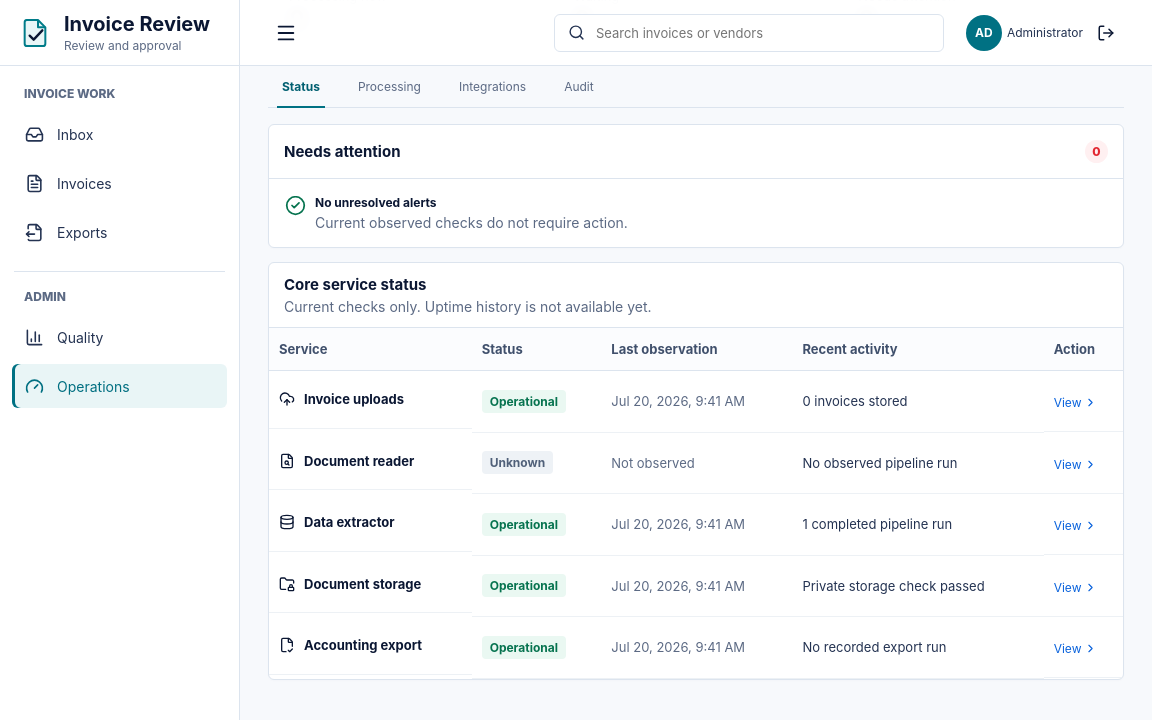
Test: system workspace › keeps operational evidence honest and navigates tabs without a page reload
(page scrolled)
Expected: the text "Current checks only. Uptime history is not available yet." is shown, [284,298,652,315]
Expected: the text "Not enough history" is not shown
Click the button "View" in the row of "Document reader".
click(1076, 464)  # box [1054,456,1098,472]
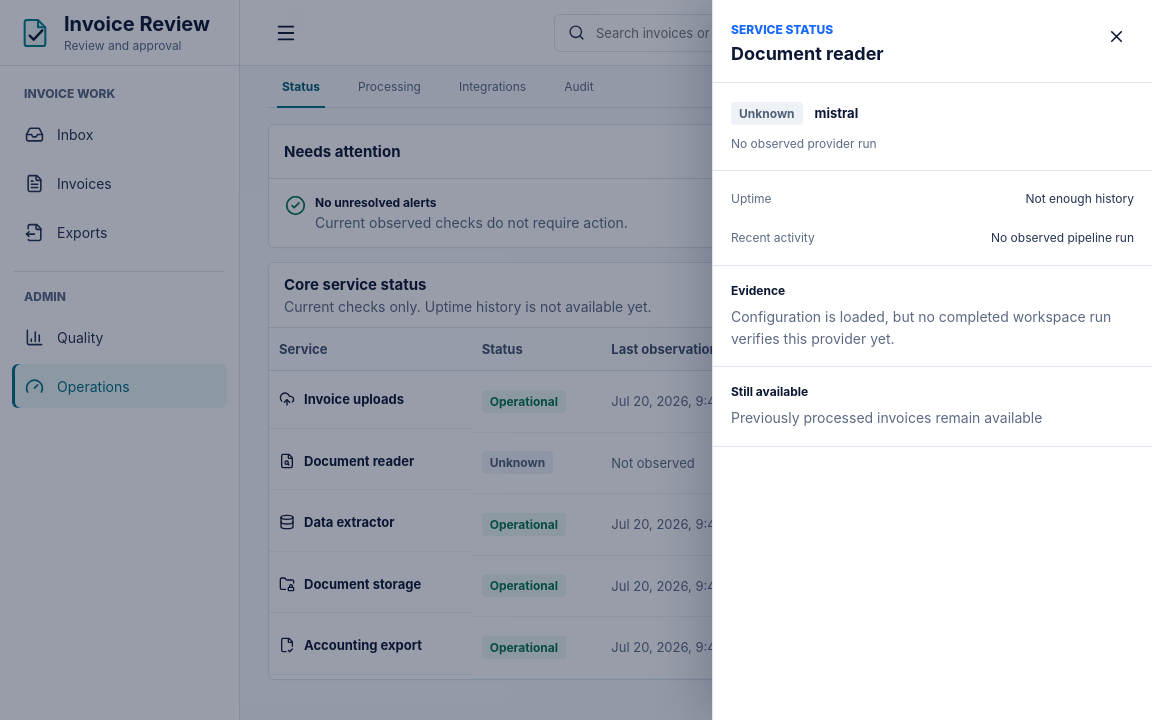
Now the dialog "Document reader" shows "No observed provider run", box [731,136,877,151]
Click the button named "Close details".
click(1116, 36)  # box [1098,18,1134,54]
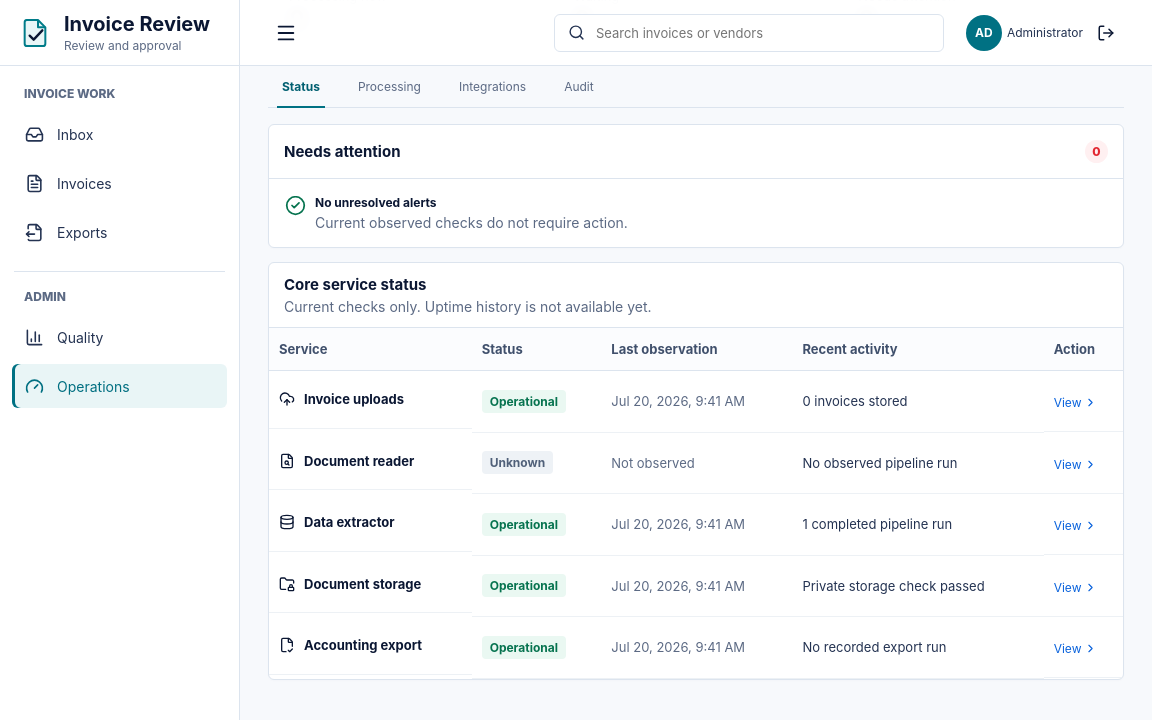
Click the tab "Processing".
click(389, 86)  # box [353,65,426,107]
(page scrolled)
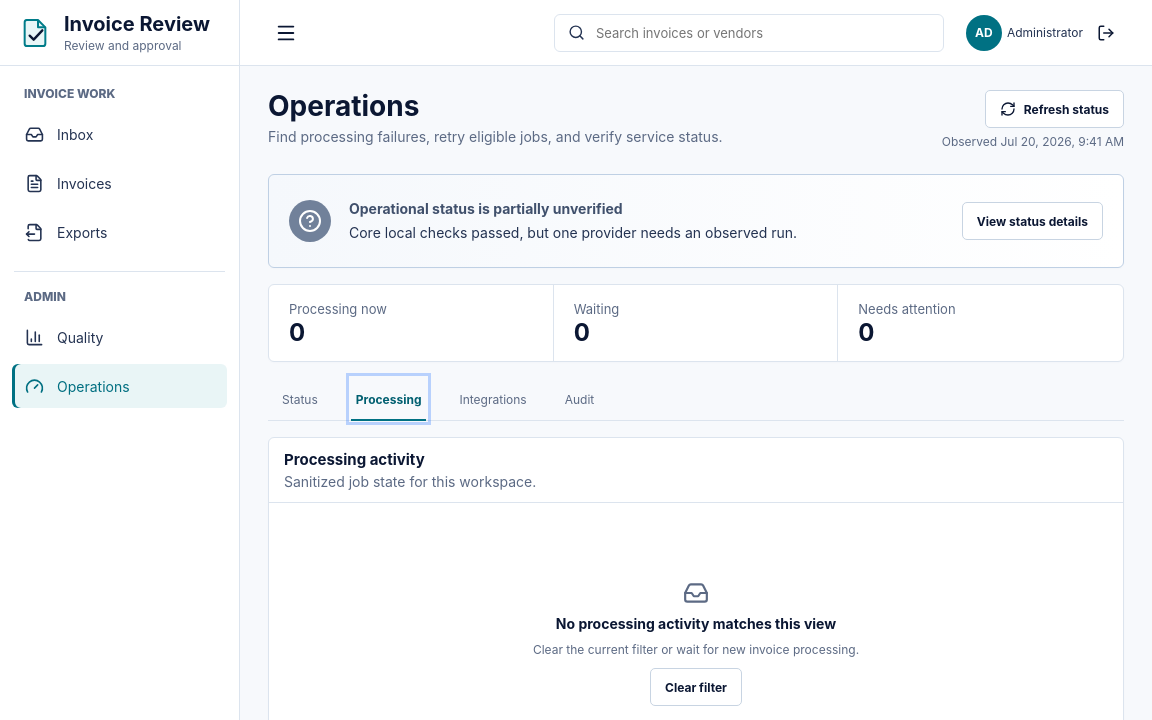
Now the heading "Processing activity" is shown, box [284,450,425,469]
Click the button "Refresh status".
click(1054, 109)  # box [985,90,1124,128]
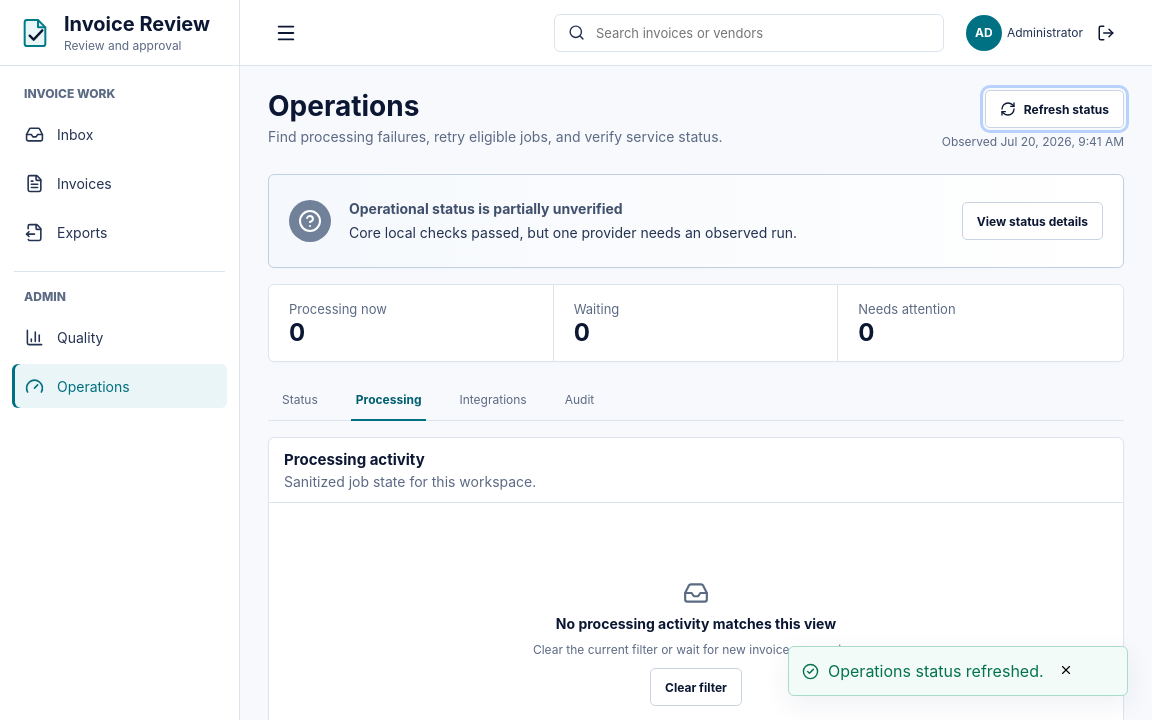
Now the text "Operations status refreshed." is shown, box [788,646,1128,696]
